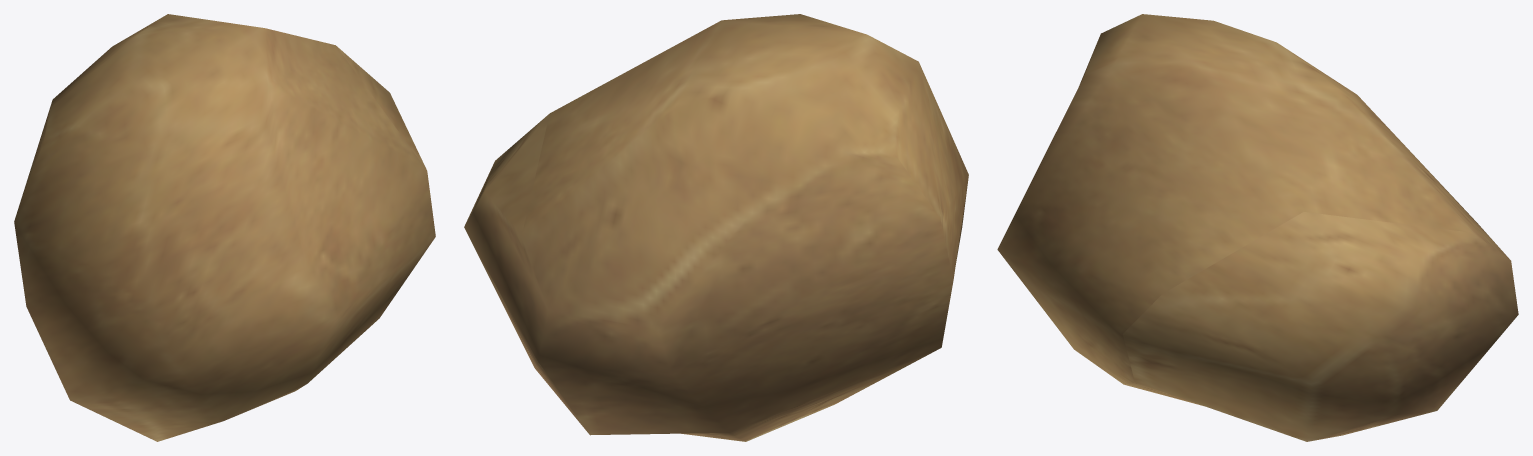
Rendered from Rock05.FBX.
The picture shows the model from 3 angles, left to right: view 1: azimuth 30°, elevation 25°; view 2: azimuth 150°, elevation 25°; view 3: azimuth 270°, elevation 25°; orthographic projection. The views are drawn at different scales.
Parts seen in each view (by area): view 1: Rock5; view 2: Rock5; view 3: Rock5.
Part boxes in pixels (box(x1,y1,x2,y2)): Rock5: box(14, 14, 435, 441); Rock5: box(464, 14, 968, 441); Rock5: box(997, 14, 1518, 441).
Bounding box in the file's own units: 446 × 393 × 493.
